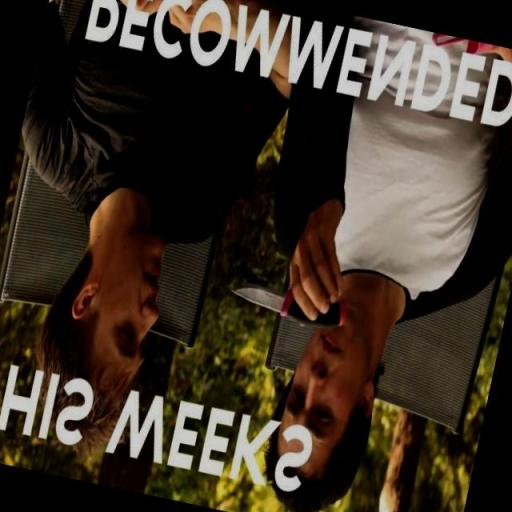knife: (228, 272, 350, 334)
